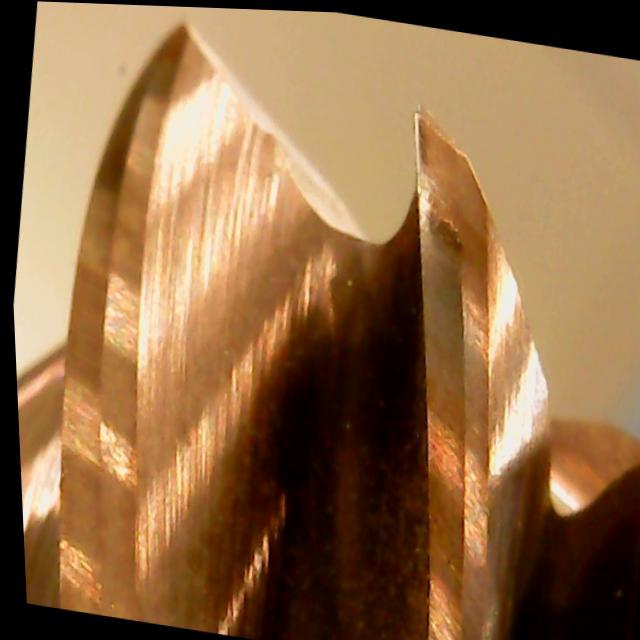Tool-wear-class-0: (357, 99, 536, 424)
